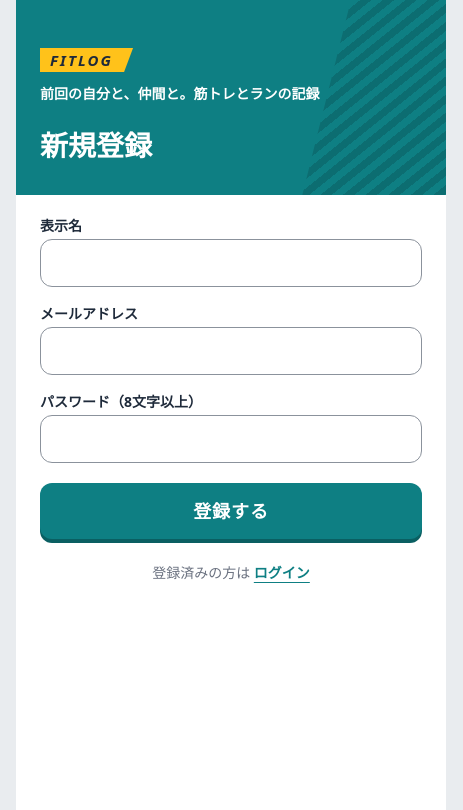
SignupForm（S-02） › パスワードが短いと返されたら、8文字以上を伝える
Type "ゆうす" into the field labelled "表示名" at (231,263), box [40,239,422,287]
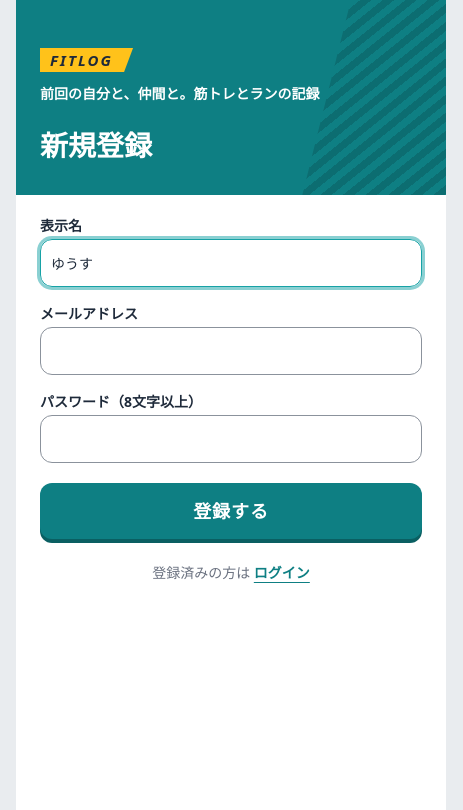
Type "a@example.com" into the field labelled "メールアドレス" at (231,351), box [40,327,422,375]
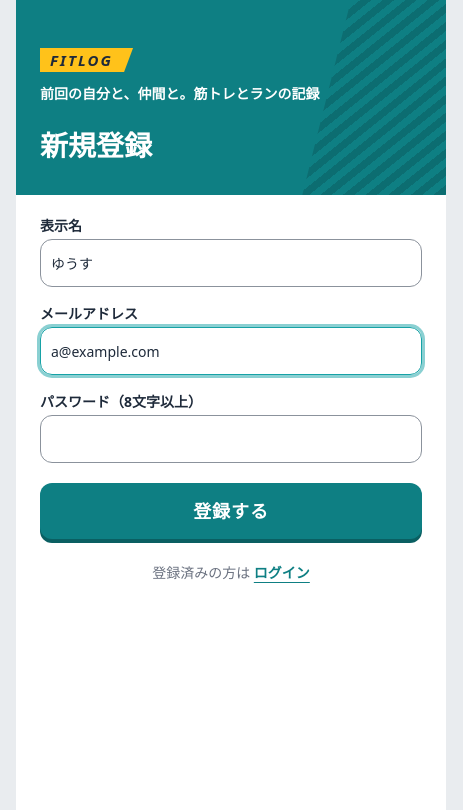
Type "password123" into the password field labelled "パスワード（8文字以上）" at (231,439), box [40,415,422,463]
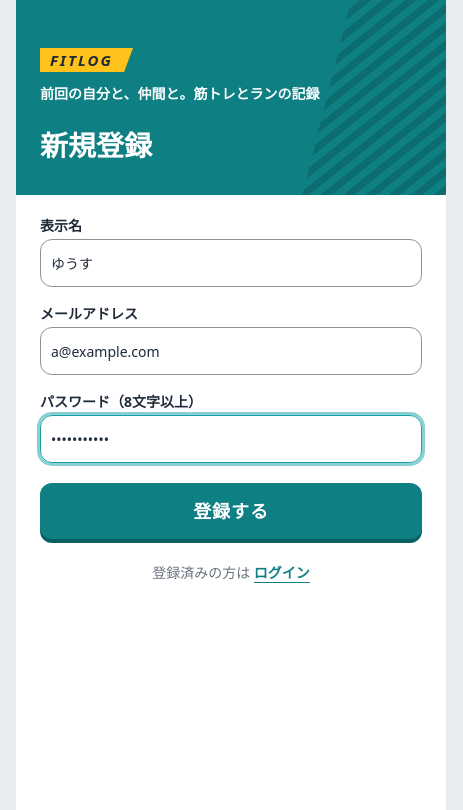
Click the button "登録する" at (231,511), box [40,483,422,539]
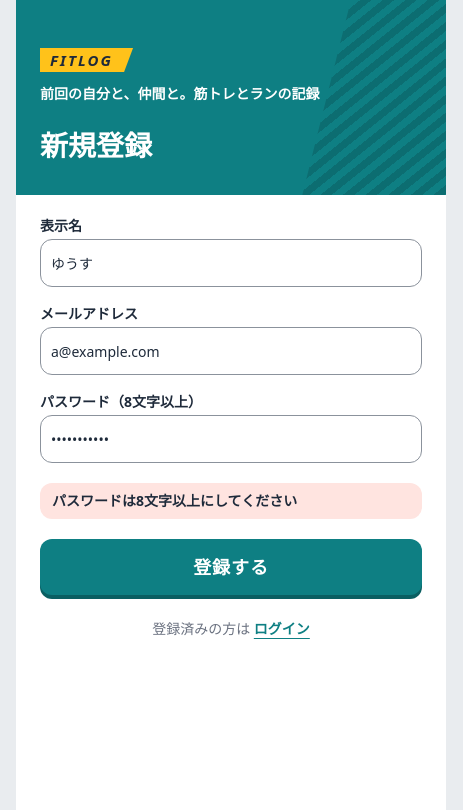
Expected: the message shows "パスワードは8文字以上", [52,491,297,510]
